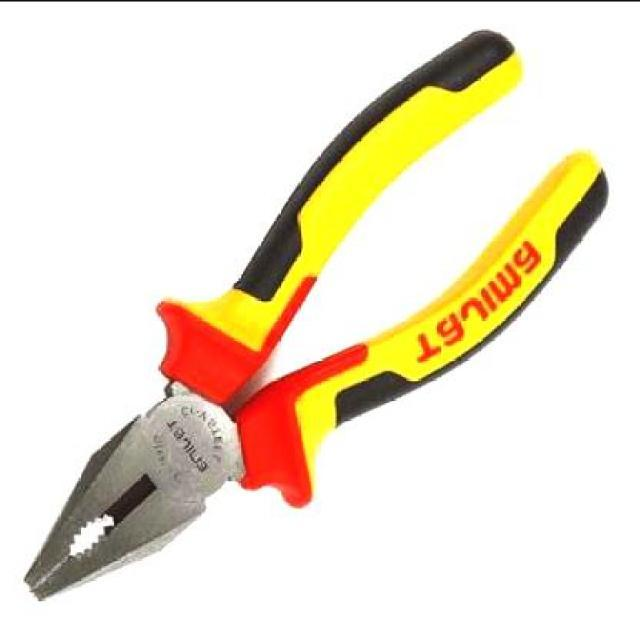pliers: (23, 29, 608, 598)
